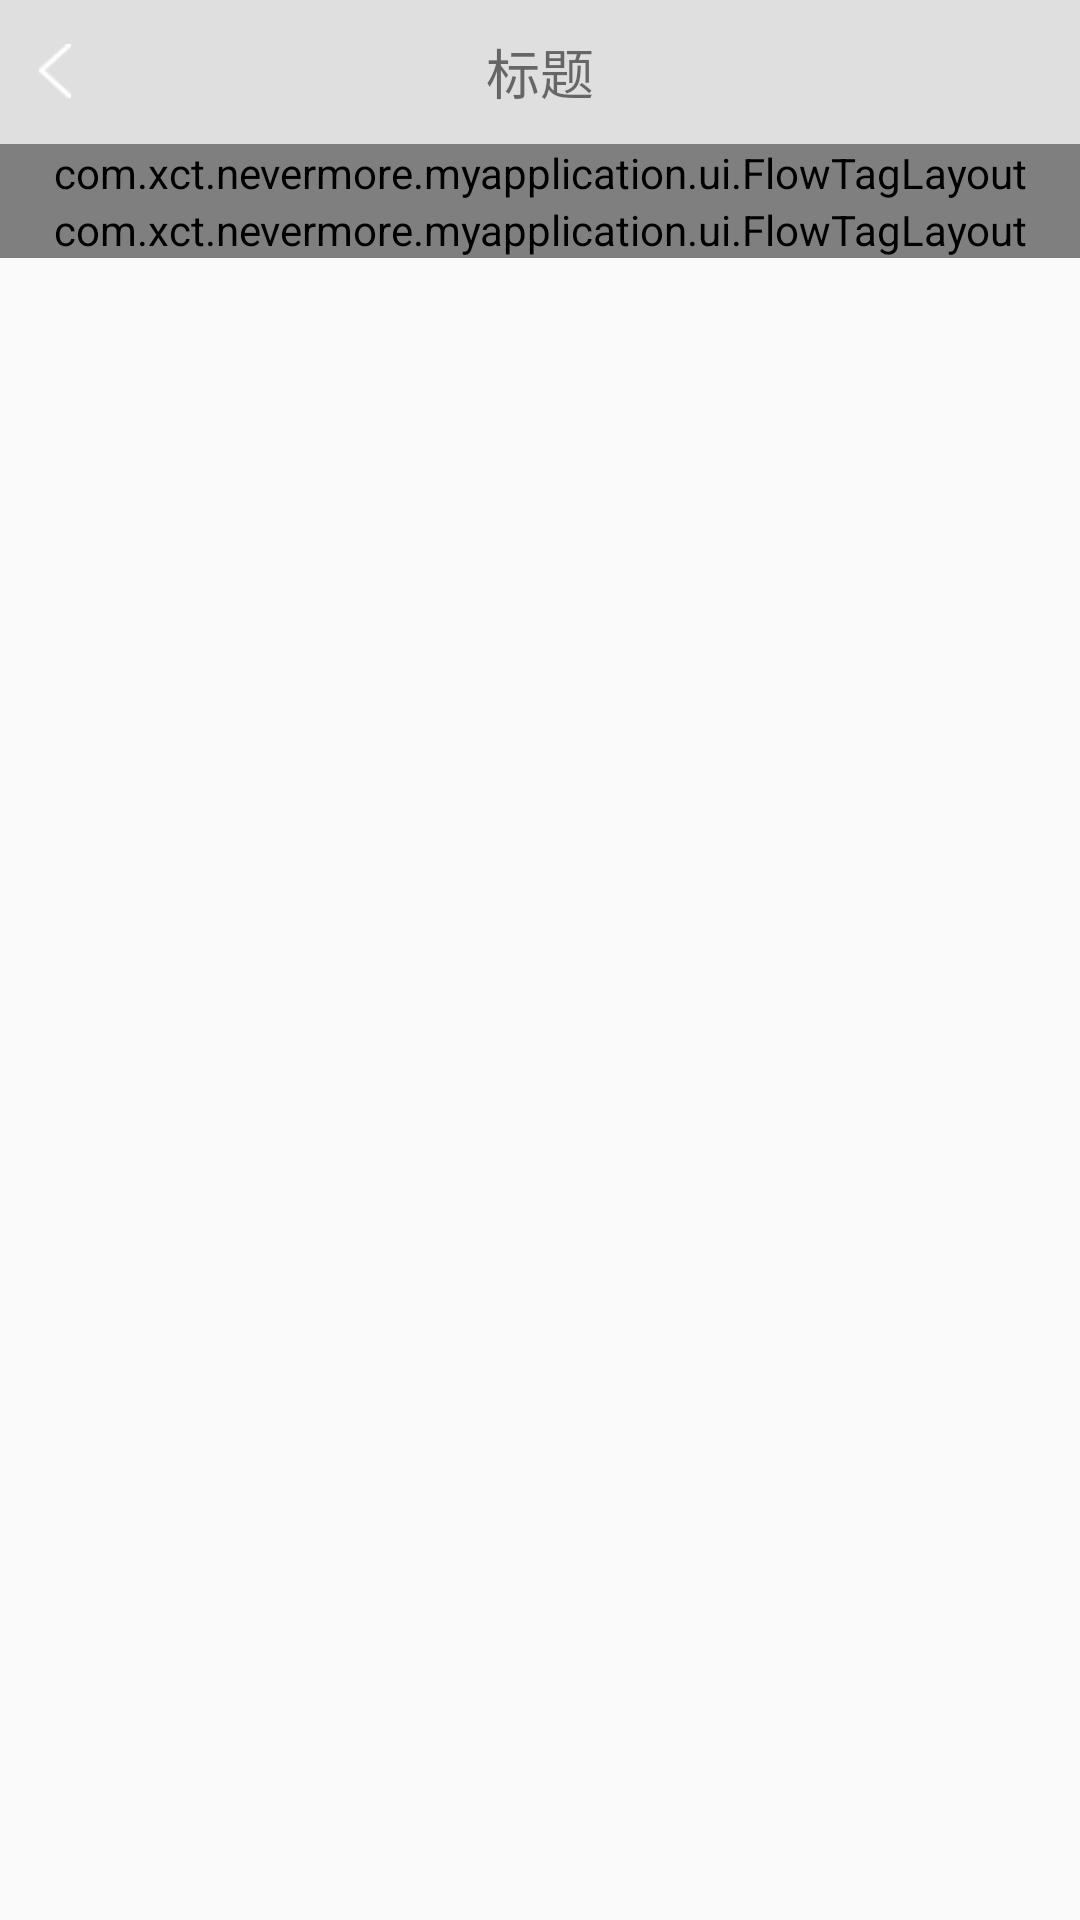

Where icons sit on this 1080 × 1920 app screen, as (x1, y1, x2, y2):
fanhui: (39, 44, 71, 97)
